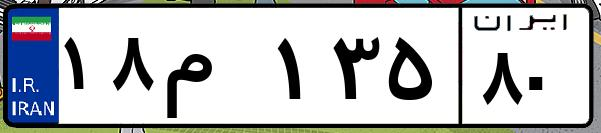0: (525, 38, 570, 115)
1: (270, 28, 330, 110), (57, 26, 110, 100)
3: (330, 28, 385, 110)
5: (385, 28, 445, 110)
8: (475, 38, 525, 113), (110, 28, 158, 98)
م: (158, 20, 270, 120)
